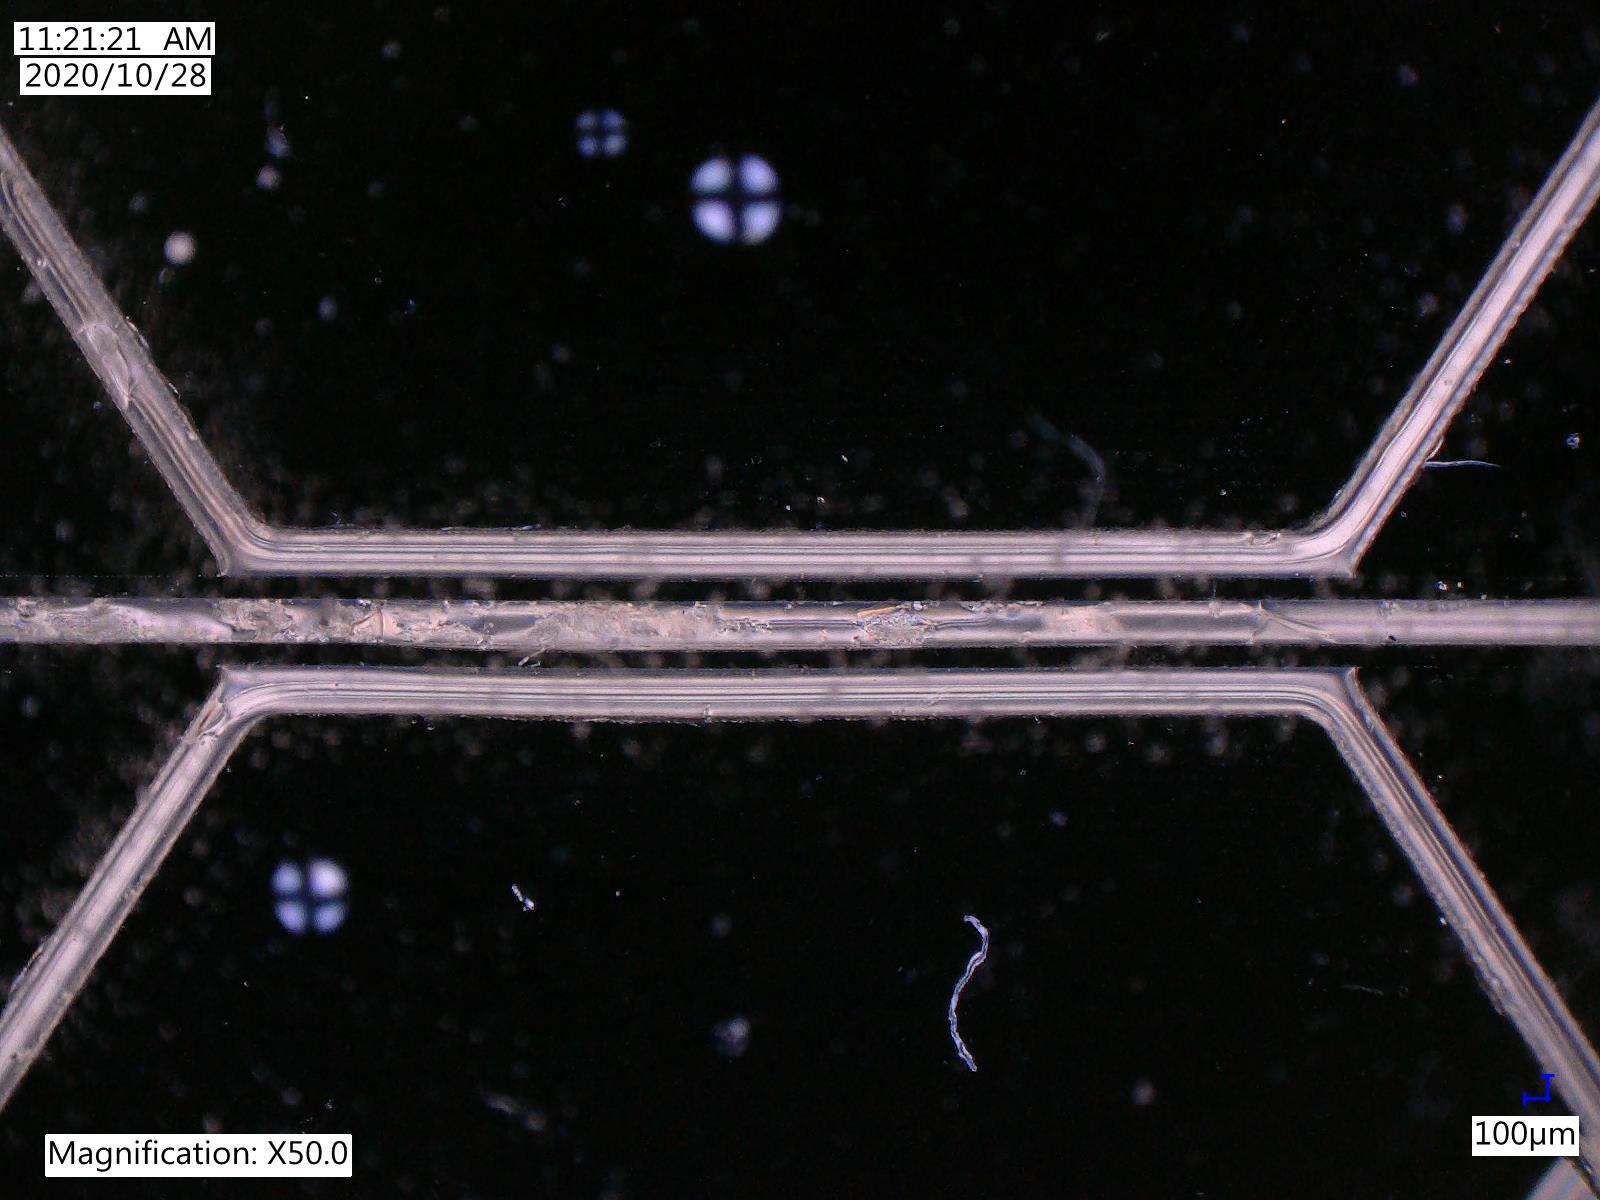sediment: (215, 600, 292, 632), (50, 613, 132, 640), (864, 621, 925, 649)
